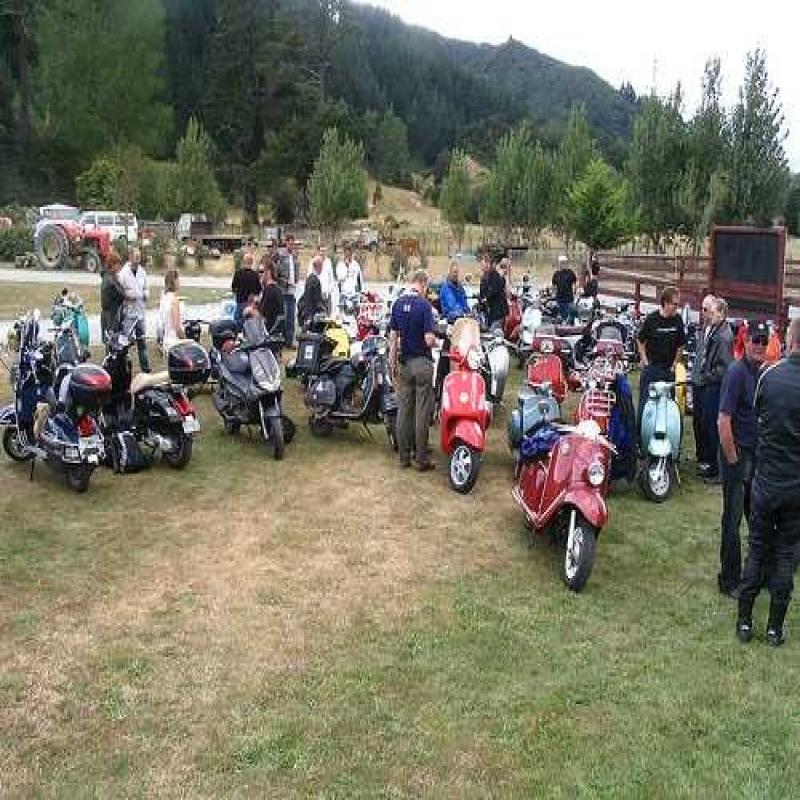bike: (109, 282, 198, 488), (22, 319, 102, 507), (210, 296, 298, 463), (300, 334, 402, 446), (544, 425, 611, 587), (435, 331, 500, 494), (647, 367, 695, 508), (526, 329, 576, 402)
